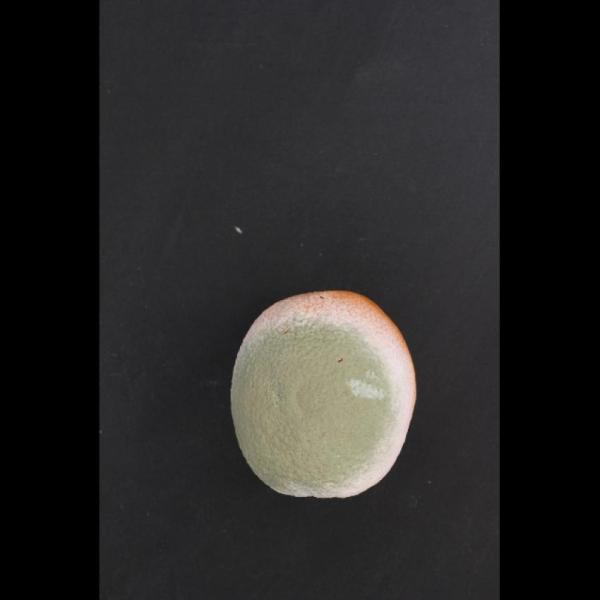Moho verde: (222, 266, 436, 521)
